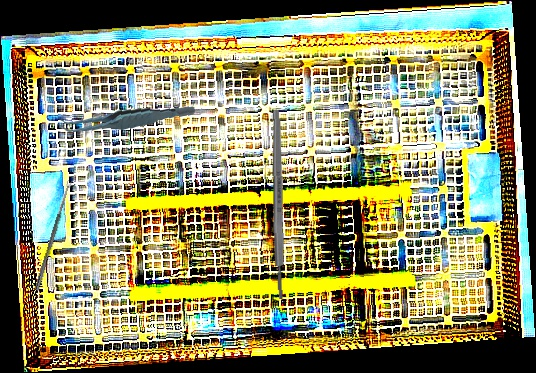Scalpel Handle: (271, 109, 286, 300)
Surgical Spoon: (34, 179, 73, 292)
Tissue Forceps: (56, 91, 196, 146)
